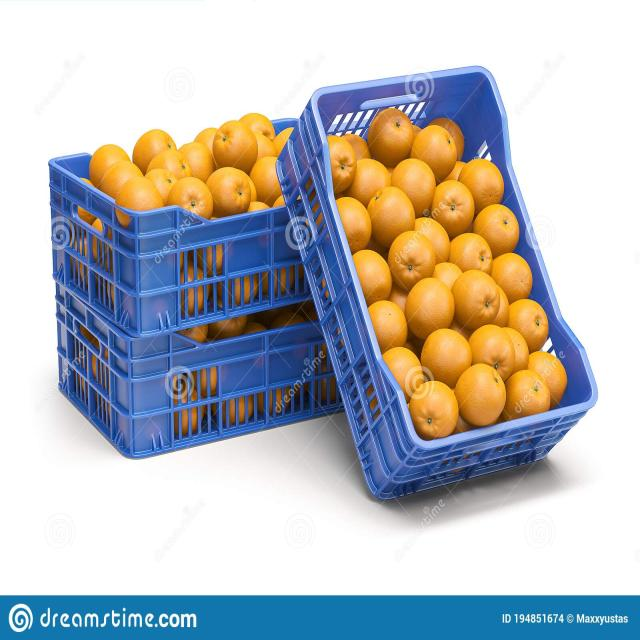basket: (244, 34, 615, 515), (11, 145, 329, 376), (31, 283, 354, 489)
